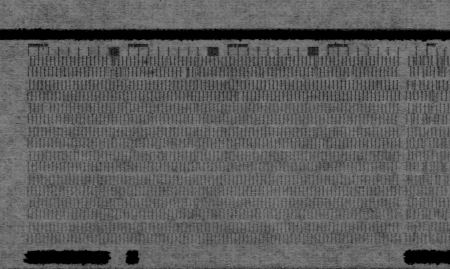Oblique printing: (405, 52, 450, 147), (419, 160, 450, 216), (104, 54, 125, 80), (179, 67, 192, 80), (234, 91, 246, 104)
